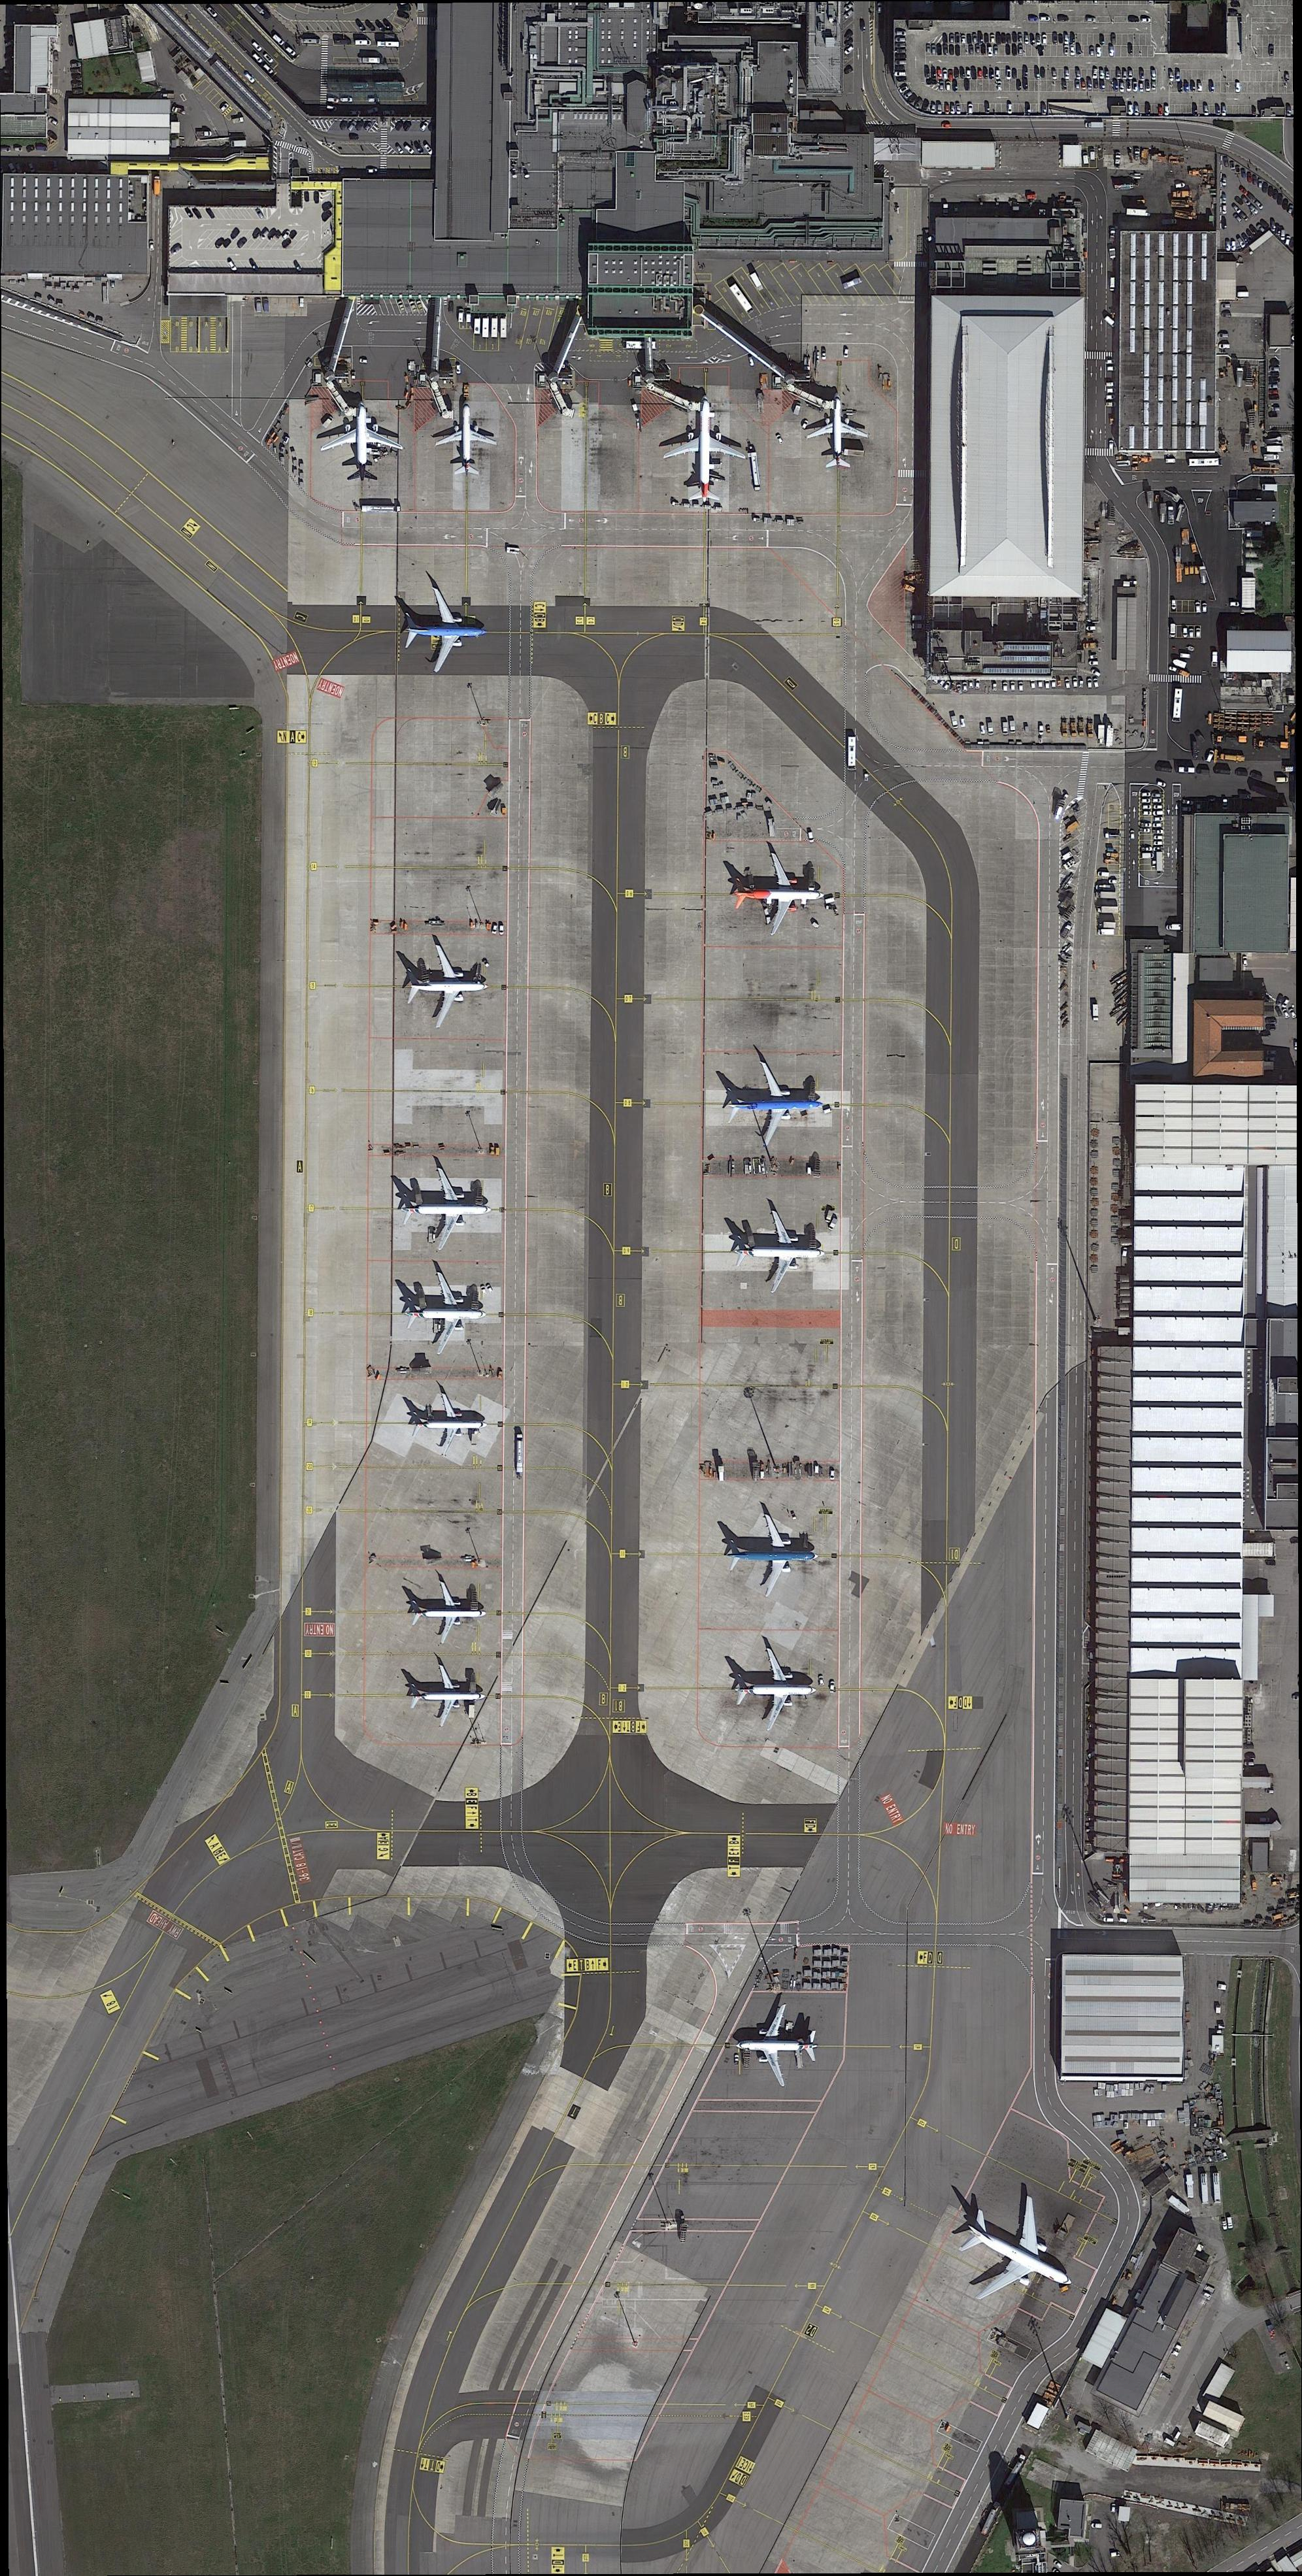plane: (937, 2176, 1100, 2336), (656, 395, 748, 508), (725, 1059, 824, 1151), (733, 1208, 828, 1294), (722, 1514, 820, 1598), (397, 586, 488, 675), (728, 1645, 820, 1732), (733, 851, 826, 936), (402, 1167, 493, 1251), (736, 2001, 820, 2090), (405, 946, 492, 1030), (403, 1273, 488, 1359), (320, 399, 405, 484), (802, 393, 872, 470), (407, 1664, 487, 1730), (410, 1579, 488, 1646), (434, 402, 500, 480), (412, 1393, 489, 1457)
